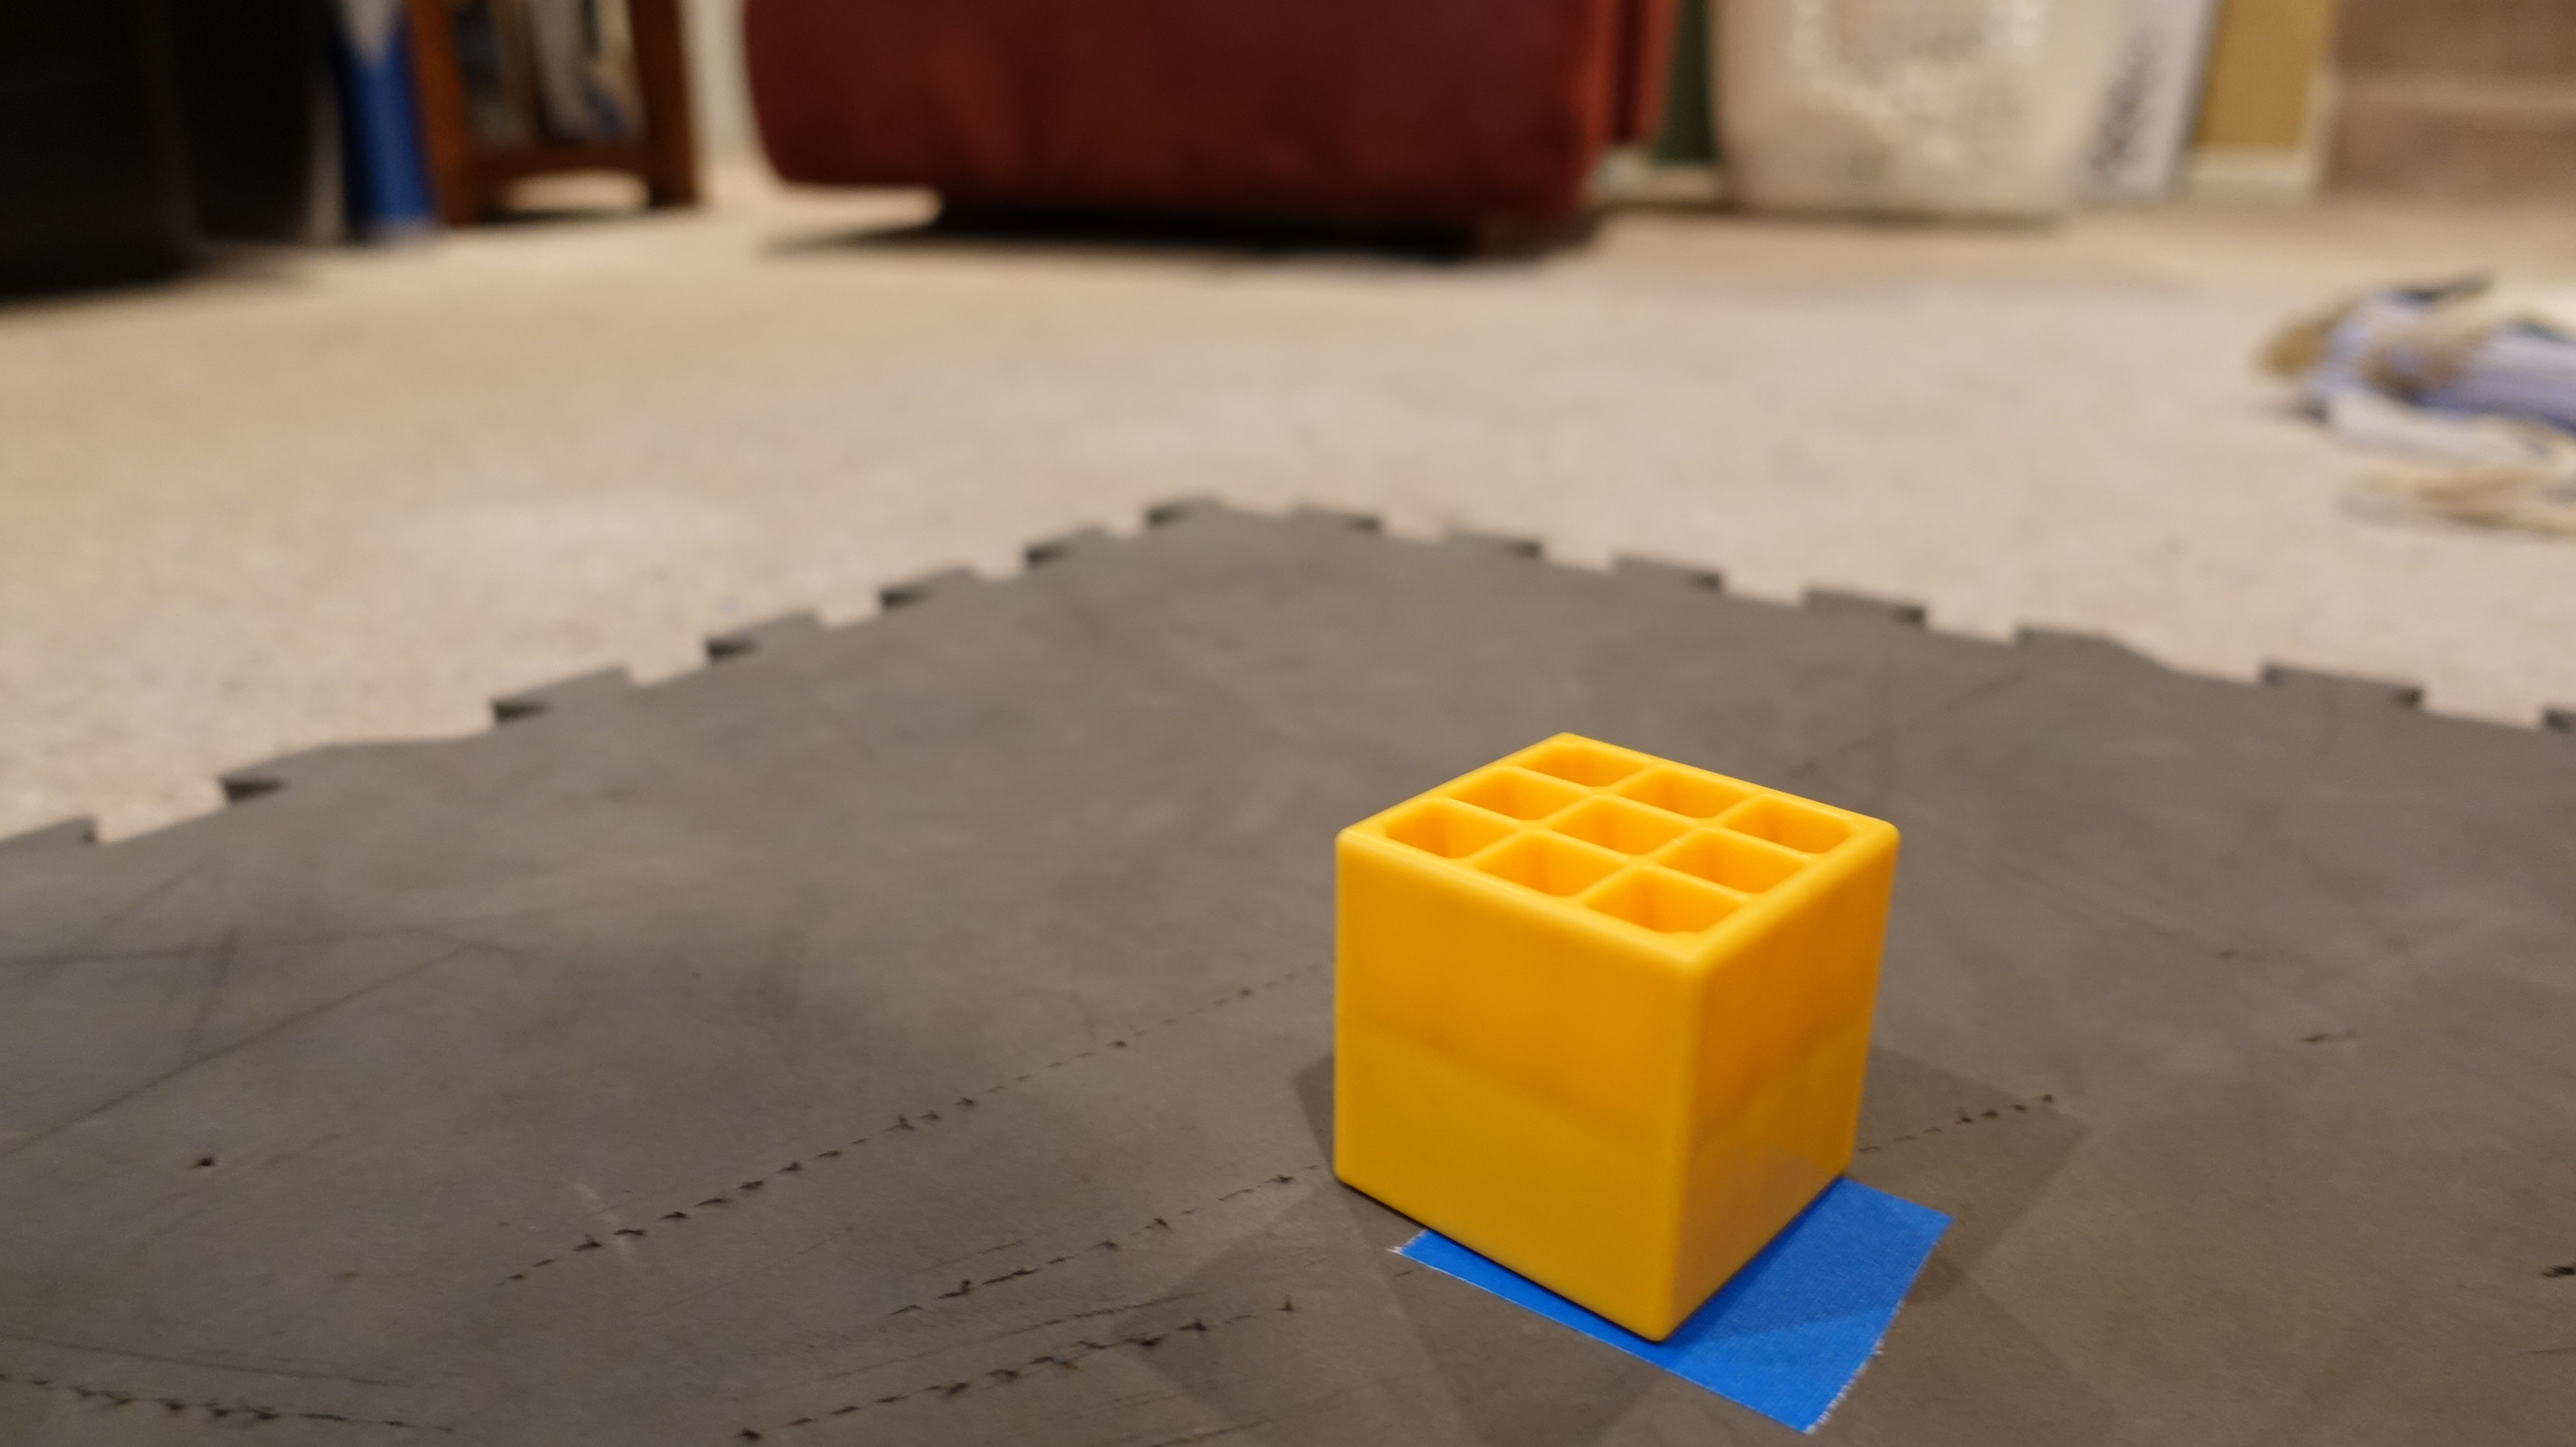gold: (1327, 734, 1909, 1351)
